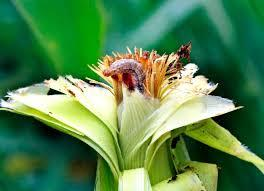fallarmy_worm: (100, 54, 149, 95)
